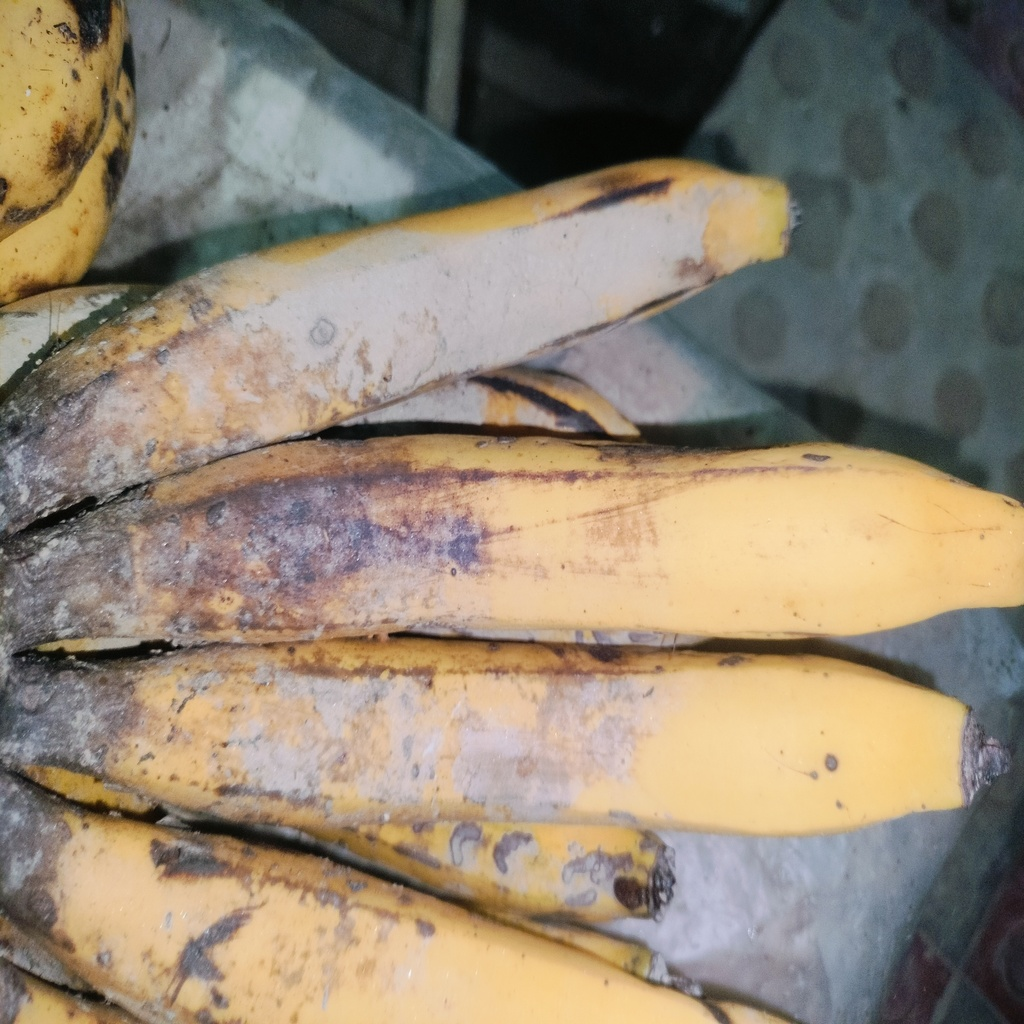unhealthy: (8, 433, 1024, 648), (125, 635, 985, 831)
